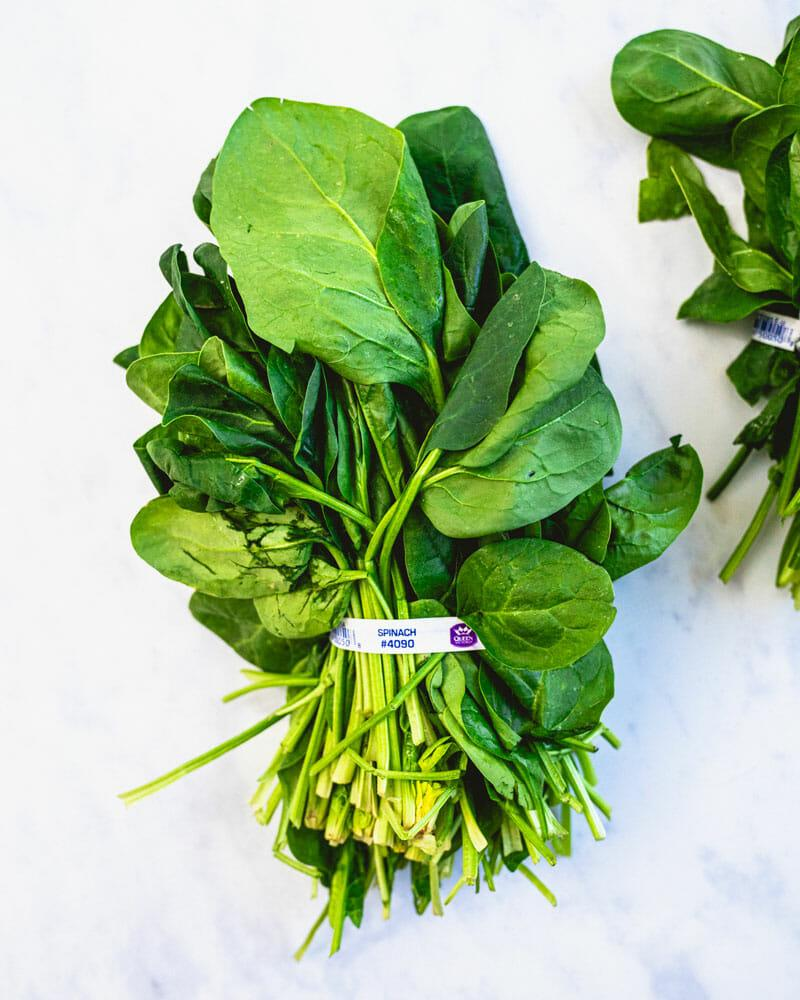spinach: (112, 94, 704, 960), (609, 14, 798, 609)
